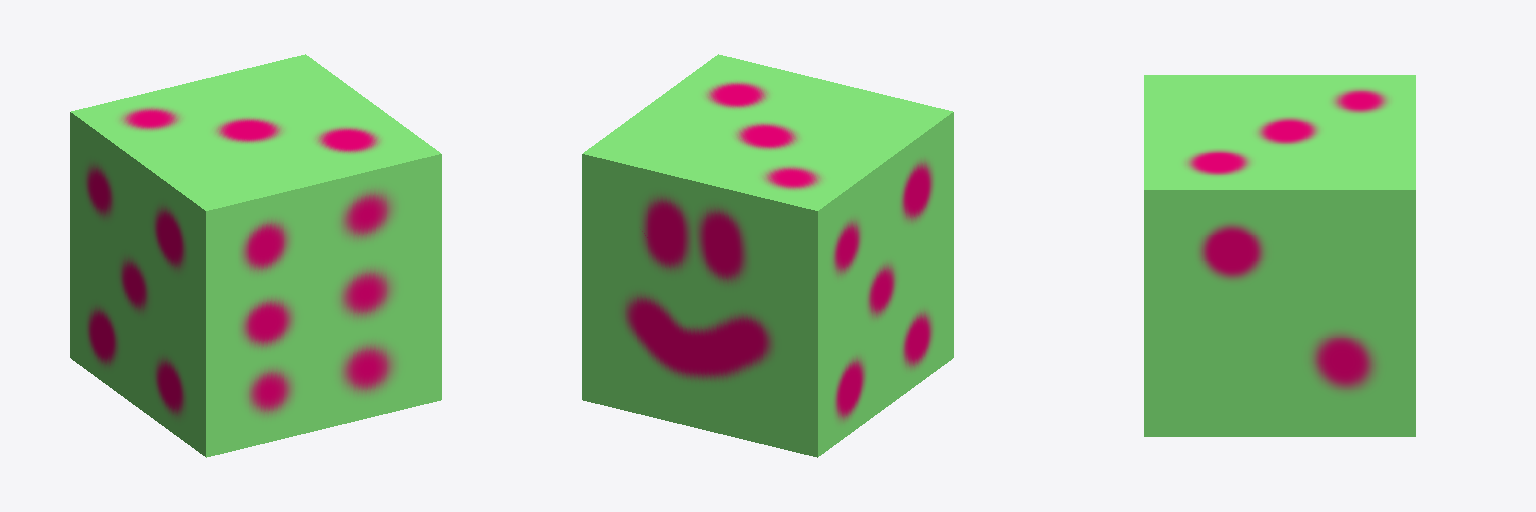
3 renders of one model, left to right at view 1: azimuth 30°, elevation 25°; view 2: azimuth 150°, elevation 25°; view 3: azimuth 270°, elevation 25°, orthographic.
Parts seen in each view (by area): view 1: Cube; view 2: Cube; view 3: Cube.
Boxes of the visible parts, x1,y1,x2,y2 form: Cube: [70, 54, 441, 457]; Cube: [582, 54, 953, 457]; Cube: [1144, 75, 1415, 436].
Size of the model in its own units: 2 by 2 by 2.
Materials: 1 (1 with a texture image).